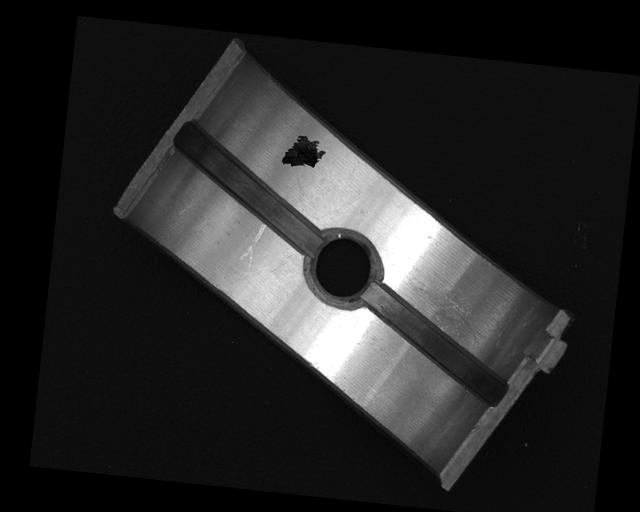blot: (281, 133, 327, 170)
gap: (165, 121, 329, 256), (354, 285, 519, 407)
hole: (302, 226, 384, 312)
nick: (238, 219, 267, 269)
scratch: (403, 279, 493, 350)
